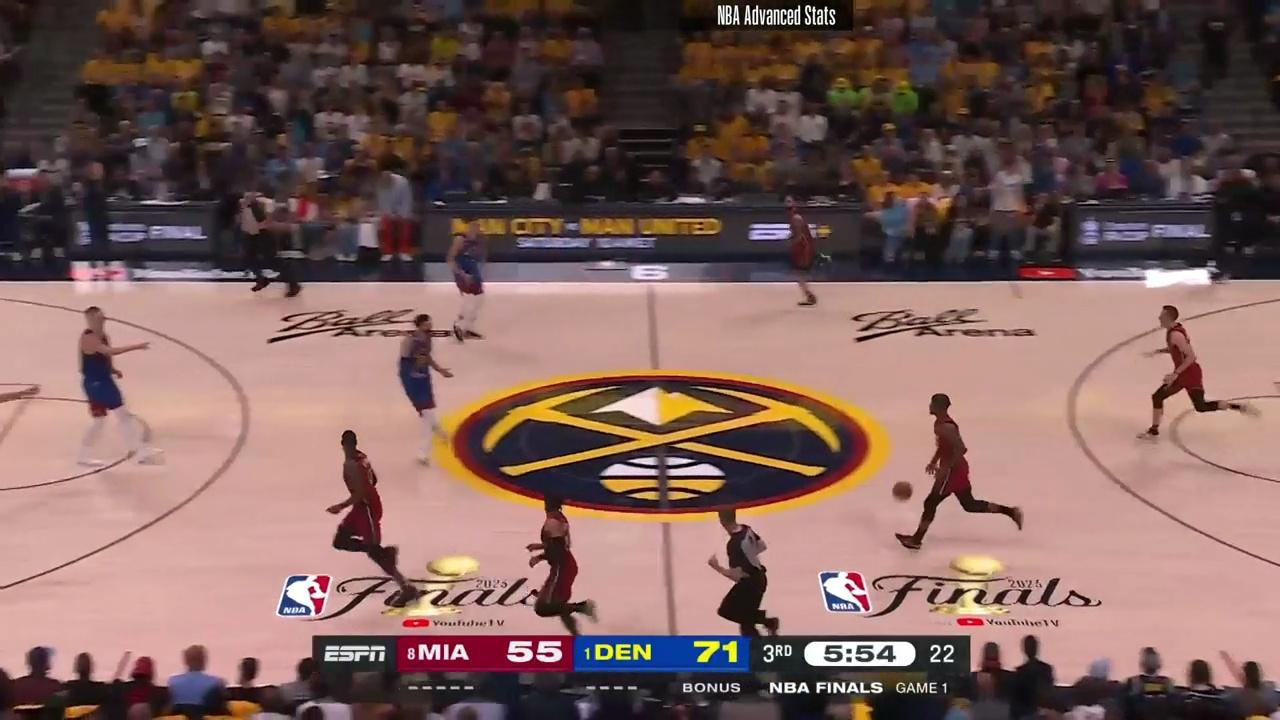Ball: (891, 479, 914, 501)
Person: (903, 386, 1030, 554), (1136, 304, 1250, 448), (329, 423, 413, 603), (73, 302, 151, 469), (520, 481, 598, 632), (393, 306, 462, 455), (772, 195, 836, 315), (443, 215, 495, 343)
Referee: (710, 503, 785, 638), (234, 186, 304, 305)
